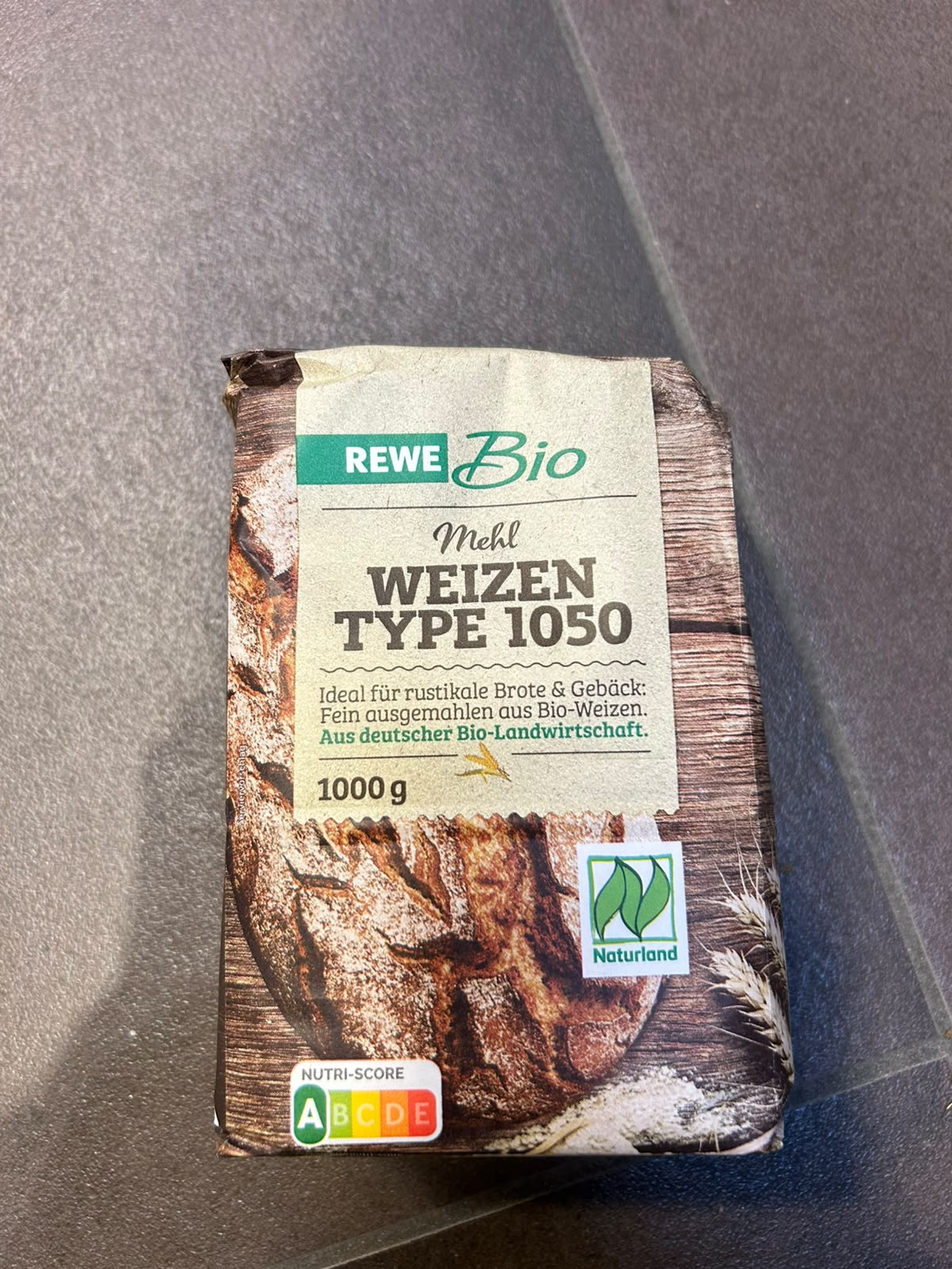bag: (199, 336, 808, 1168)
